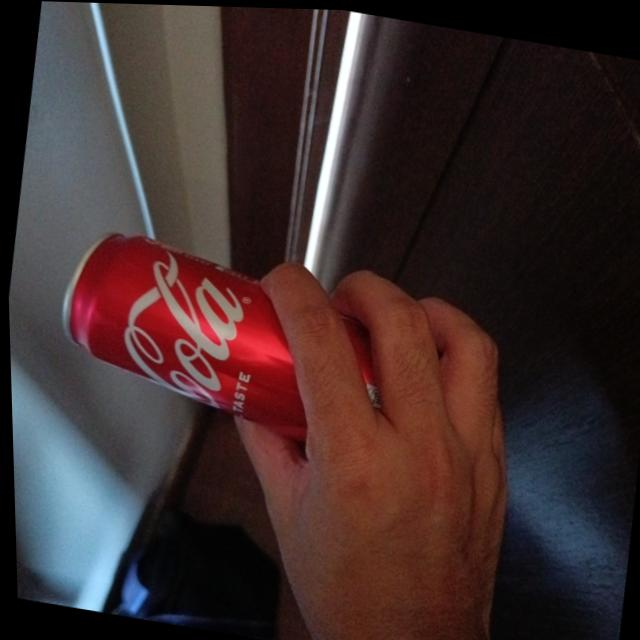coke: (46, 221, 410, 450)
